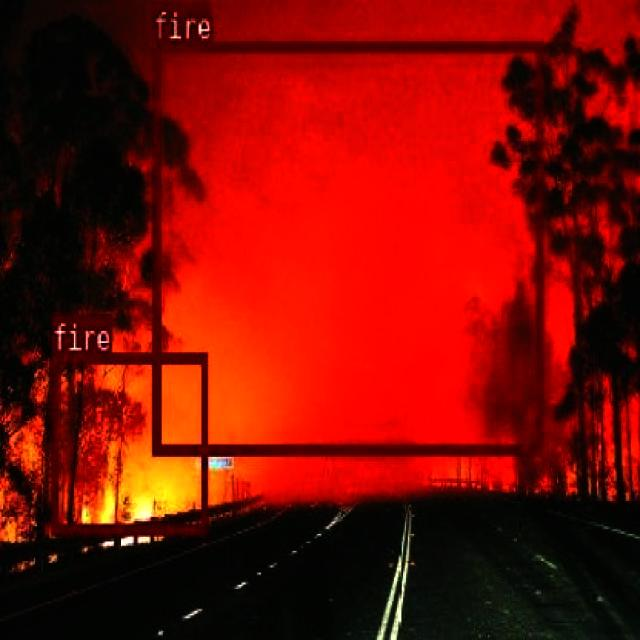fire: (152, 38, 542, 454), (50, 352, 206, 534)
